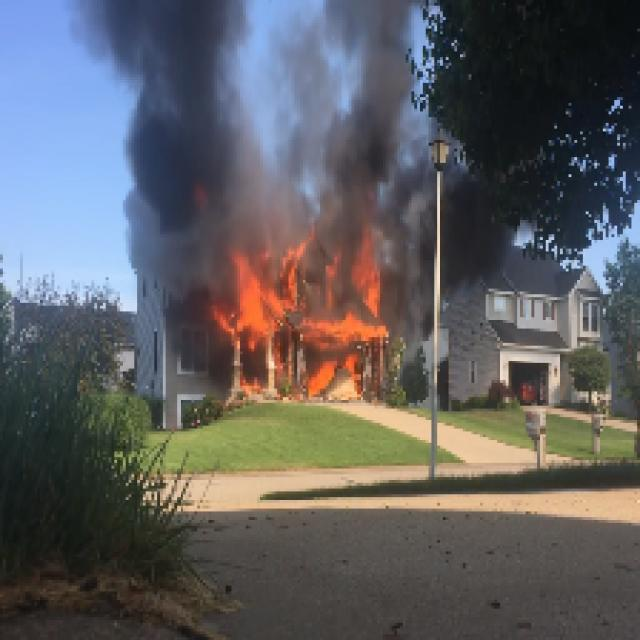fire: (247, 263, 383, 352)
smoke: (132, 0, 236, 286), (340, 0, 409, 240)
